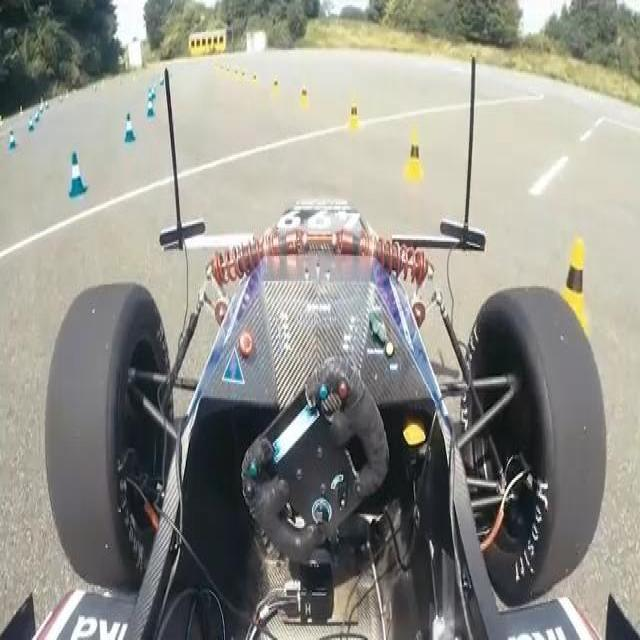blue_cone: (63, 147, 88, 198), (123, 108, 137, 146), (145, 92, 154, 119), (147, 82, 155, 104), (9, 130, 16, 154), (26, 115, 34, 134), (34, 106, 40, 128)
yellow_cone: (541, 229, 593, 373), (403, 124, 425, 182), (347, 96, 358, 135), (298, 82, 310, 111), (273, 77, 280, 97), (252, 71, 258, 89), (235, 66, 240, 80), (241, 71, 245, 85)
